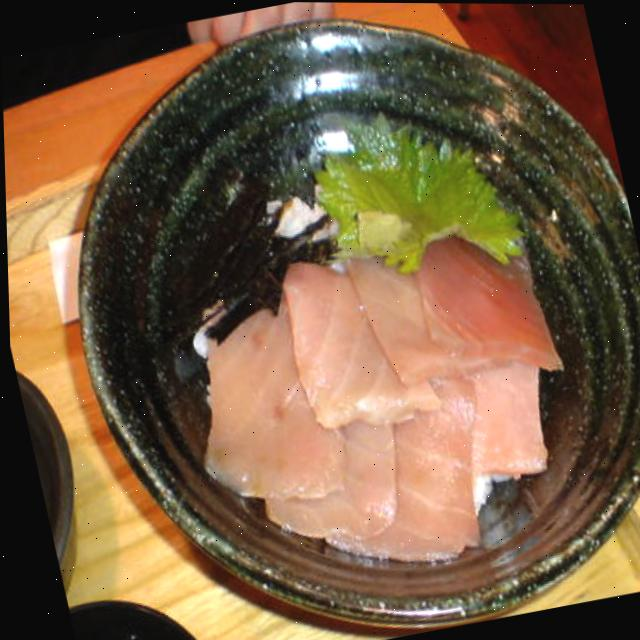刺身生食: (25, 0, 640, 640)
